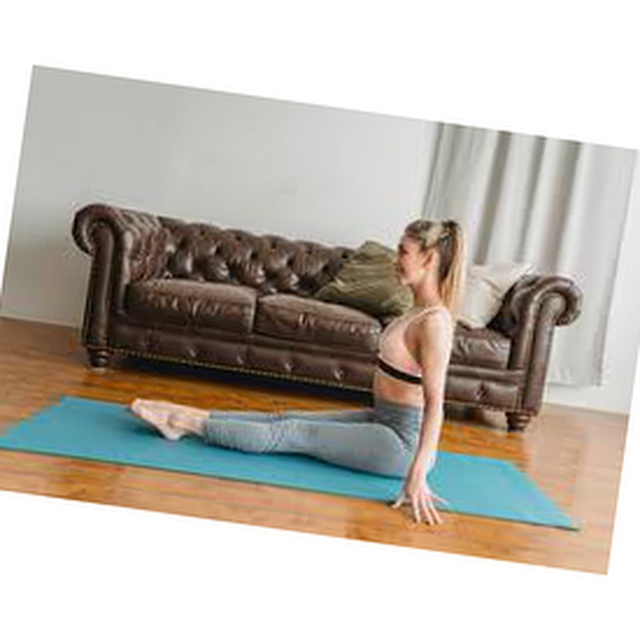Staff_Pose: (130, 216, 468, 527)
